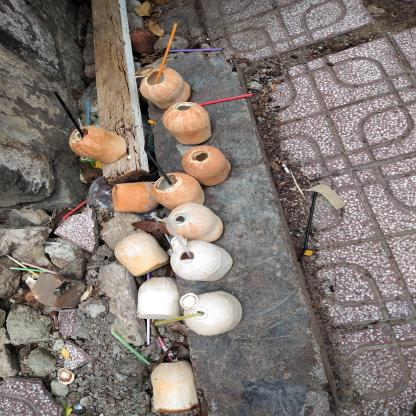Plastic: (144, 134, 172, 186), (154, 24, 177, 85), (297, 192, 317, 261), (111, 331, 151, 365), (54, 92, 83, 138), (163, 218, 193, 259), (86, 175, 115, 212), (5, 254, 39, 278), (198, 93, 252, 106), (155, 312, 204, 326), (80, 82, 99, 117), (78, 159, 102, 186), (21, 262, 61, 275), (142, 113, 155, 153), (62, 200, 86, 219), (157, 336, 173, 362), (125, 209, 158, 221), (150, 214, 182, 223), (57, 400, 72, 416), (169, 48, 221, 52), (11, 267, 49, 272), (42, 306, 61, 313), (86, 101, 90, 126), (147, 319, 150, 345), (44, 241, 62, 245), (165, 234, 171, 246), (92, 119, 100, 127), (77, 118, 83, 127), (131, 182, 156, 184), (304, 251, 313, 256), (53, 316, 58, 323), (147, 273, 150, 280), (53, 271, 60, 274)
Waste: (304, 184, 345, 210), (282, 164, 289, 173), (76, 404, 82, 409)
